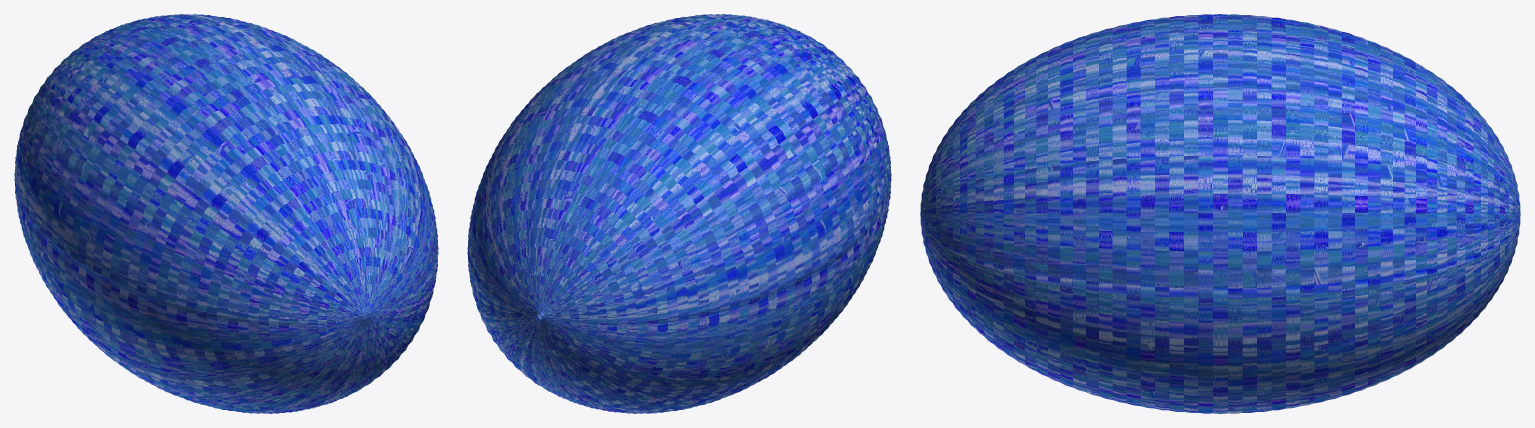
File: einstein-energy-per-mass-points.gltf
The picture shows the model from 3 angles, left to right: view 1: azimuth 30°, elevation 25°; view 2: azimuth 150°, elevation 25°; view 3: azimuth 270°, elevation 25°; orthographic projection. The views are drawn at different scales.
Visible parts, largest first — view 1: einstein_energy_per_mass_solid; view 2: einstein_energy_per_mass_solid; view 3: einstein_energy_per_mass_solid.
Part boxes in pixels (x1,y1,x2,y2): einstein_energy_per_mass_solid: (14, 14, 438, 413); einstein_energy_per_mass_solid: (467, 14, 891, 413); einstein_energy_per_mass_solid: (920, 14, 1520, 413).
Size of the model in its own units: 7.98 by 7.98 by 11.97.
1 material, 1 textured.
